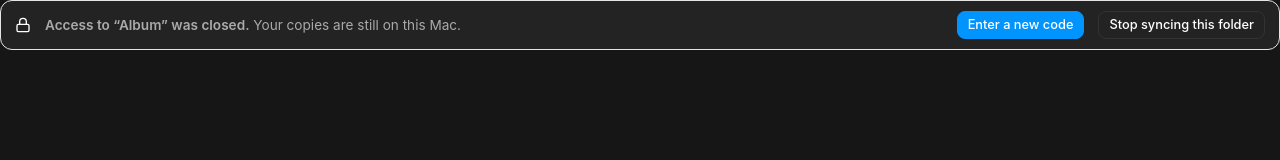
it: SharedFolderBar › when access was closed (removed, or the owner stopped sharing) › explains when stopping fails, and lets you try again
Click the button "Stop syncing this folder": (1182, 25) [1098, 11, 1265, 39]
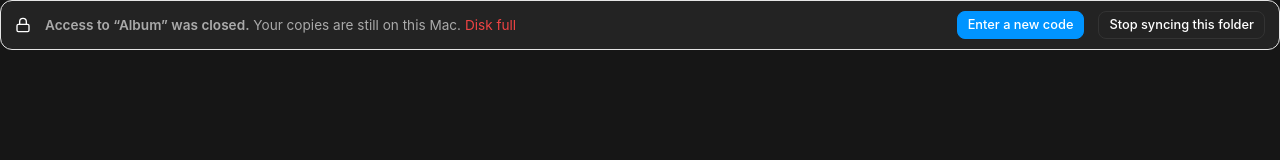
Check: the message reads "Disk full", box [465, 17, 516, 33]
